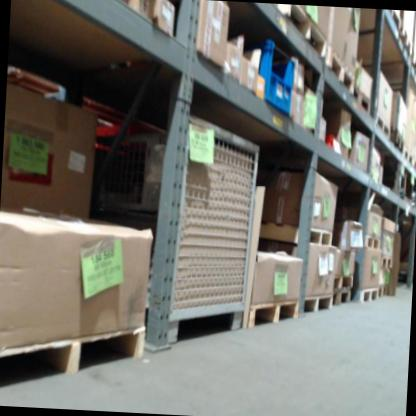pallet: (0, 316, 145, 395), (273, 3, 334, 61), (257, 219, 334, 251), (247, 296, 299, 331), (326, 42, 355, 94), (299, 289, 334, 316), (330, 286, 354, 310), (353, 86, 372, 114), (376, 111, 392, 137), (389, 128, 404, 155), (358, 285, 378, 305), (326, 273, 353, 287), (363, 234, 381, 251), (379, 253, 392, 269), (375, 284, 389, 298)
small_load_carrier: (243, 36, 298, 117), (324, 134, 342, 155)
stillage: (93, 102, 261, 351)
